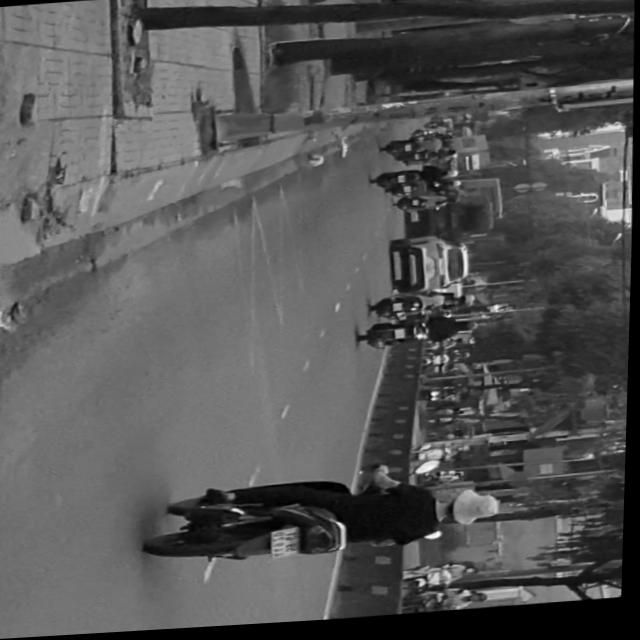licenseplate: (145, 465, 507, 577)
motorcyclist: (443, 492, 505, 532)
nohelmet: (275, 533, 303, 560)
